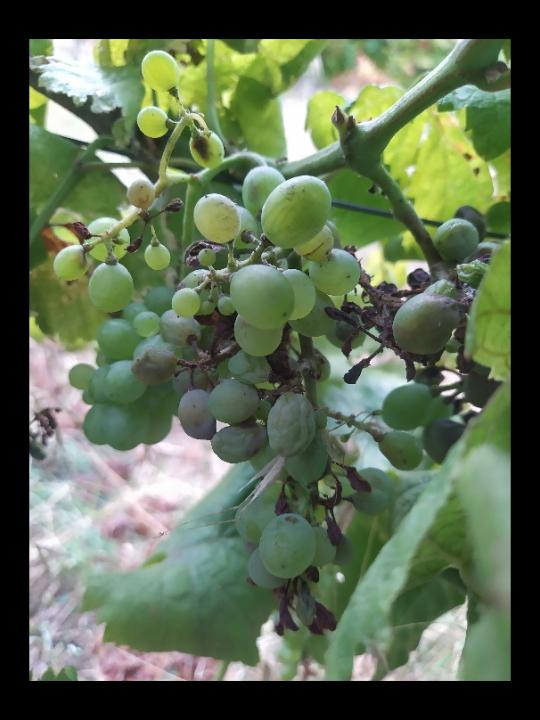grape: (127, 163, 479, 639)
